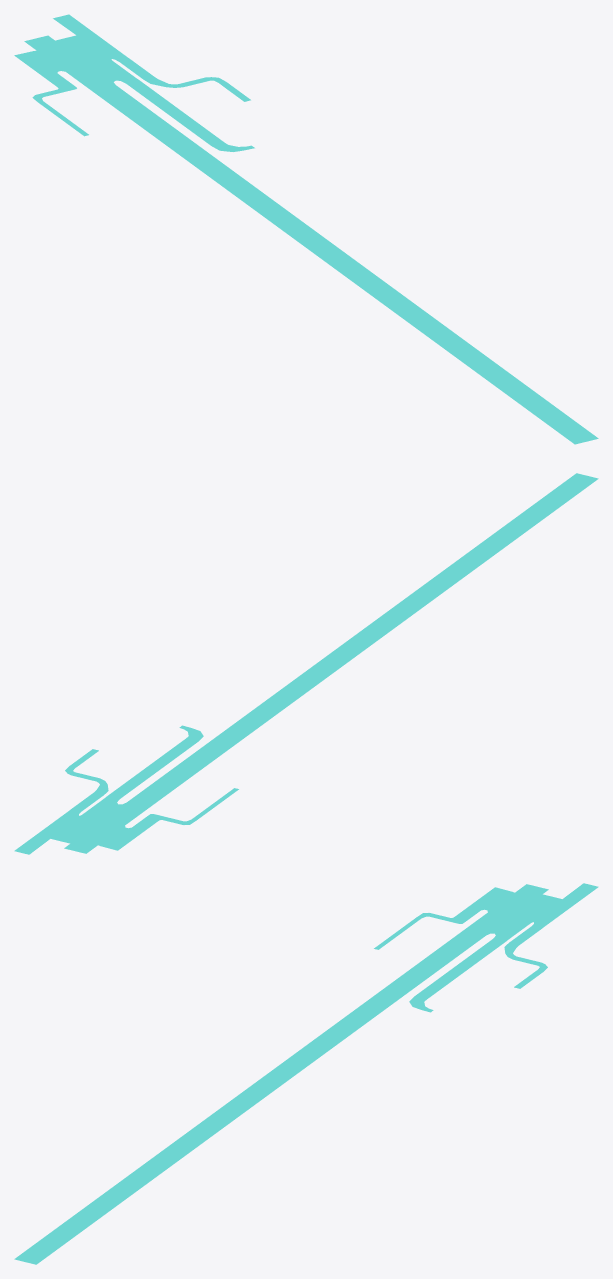
File: Suelo arbol.FBX
3 renders of one model, top to bottom at view 1: azimuth 30°, elevation 25°; view 2: azimuth 150°, elevation 25°; view 3: azimuth 330°, elevation 25°, orthographic. The views are drawn at different scales.
Parts seen in each view (by area): view 1: G_SueloArbol; view 2: G_SueloArbol; view 3: G_SueloArbol.
Part boxes in pixels (<box>): G_SueloArbol: <box>14,14,598,444</box>; G_SueloArbol: <box>14,473,598,854</box>; G_SueloArbol: <box>14,883,598,1264</box>.
Size of the model in its own units: 17.99 by 6.66e-15 by 109.
